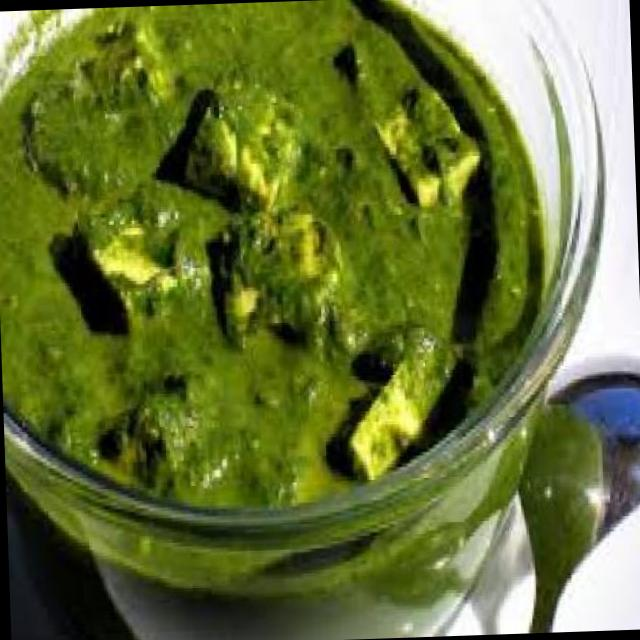palak_paneer: (0, 0, 553, 606)
